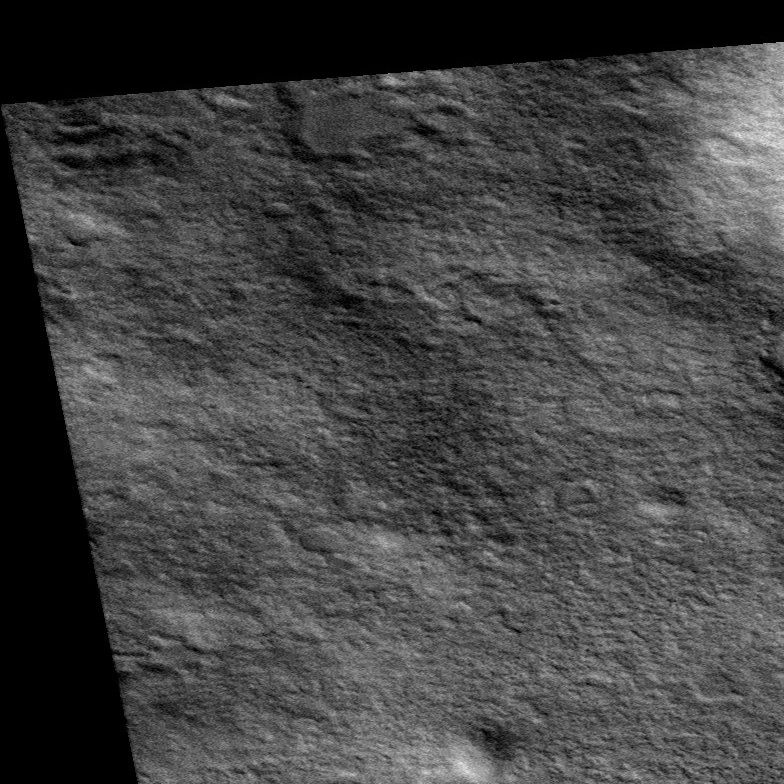dust_devil: (442, 718, 526, 784)
